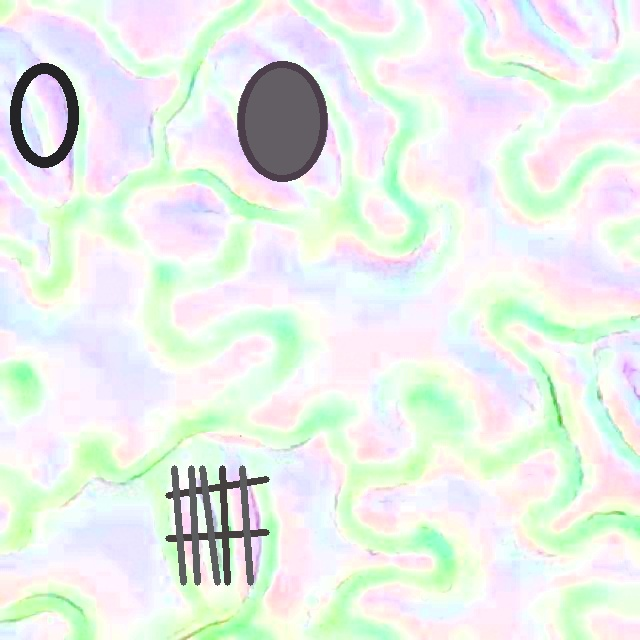open: (166, 466, 269, 584), (237, 61, 326, 180), (11, 62, 78, 167)
